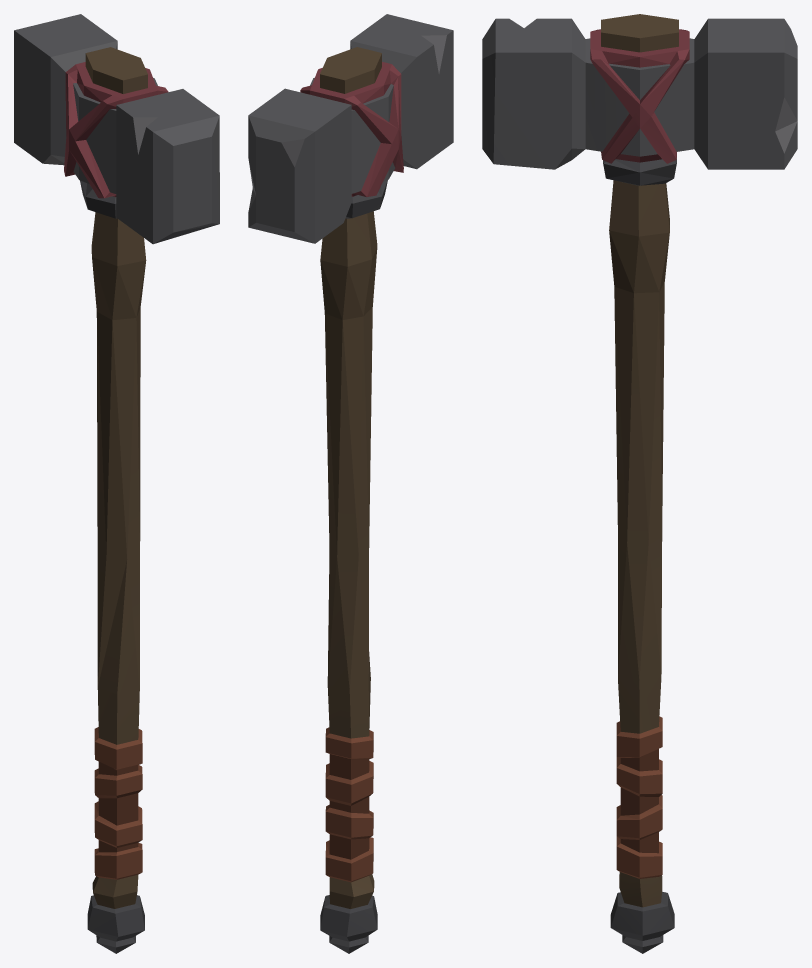
File: Martillo_01.glb
The picture shows the model from 3 angles, left to right: view 1: azimuth 30°, elevation 25°; view 2: azimuth 150°, elevation 25°; view 3: azimuth 270°, elevation 25°; orthographic projection. The views are drawn at different scales.
Visible parts, largest first — view 1: SM_Wep_HammerLarge_01; view 2: SM_Wep_HammerLarge_01; view 3: SM_Wep_HammerLarge_01.
Part boxes in pixels (x1,y1,x2,y2): SM_Wep_HammerLarge_01: (14,14,219,953); SM_Wep_HammerLarge_01: (248,14,453,953); SM_Wep_HammerLarge_01: (482,14,797,953).
Bounding box in the file's own units: 0.132 × 1.18 × 0.3628.
1 material, 1 textured.
